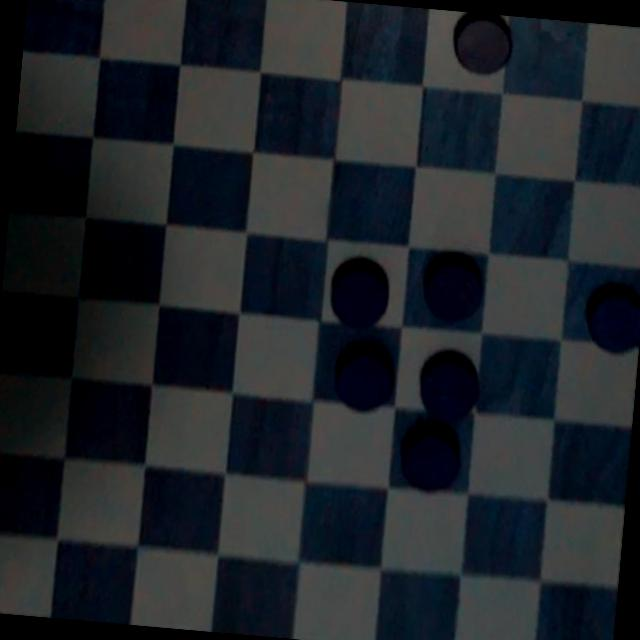BOARD: (0, 0, 640, 640)
black: (320, 251, 404, 335), (439, 10, 523, 86), (320, 344, 400, 422), (571, 278, 640, 363), (414, 347, 492, 422), (393, 423, 471, 493), (417, 254, 488, 326)
